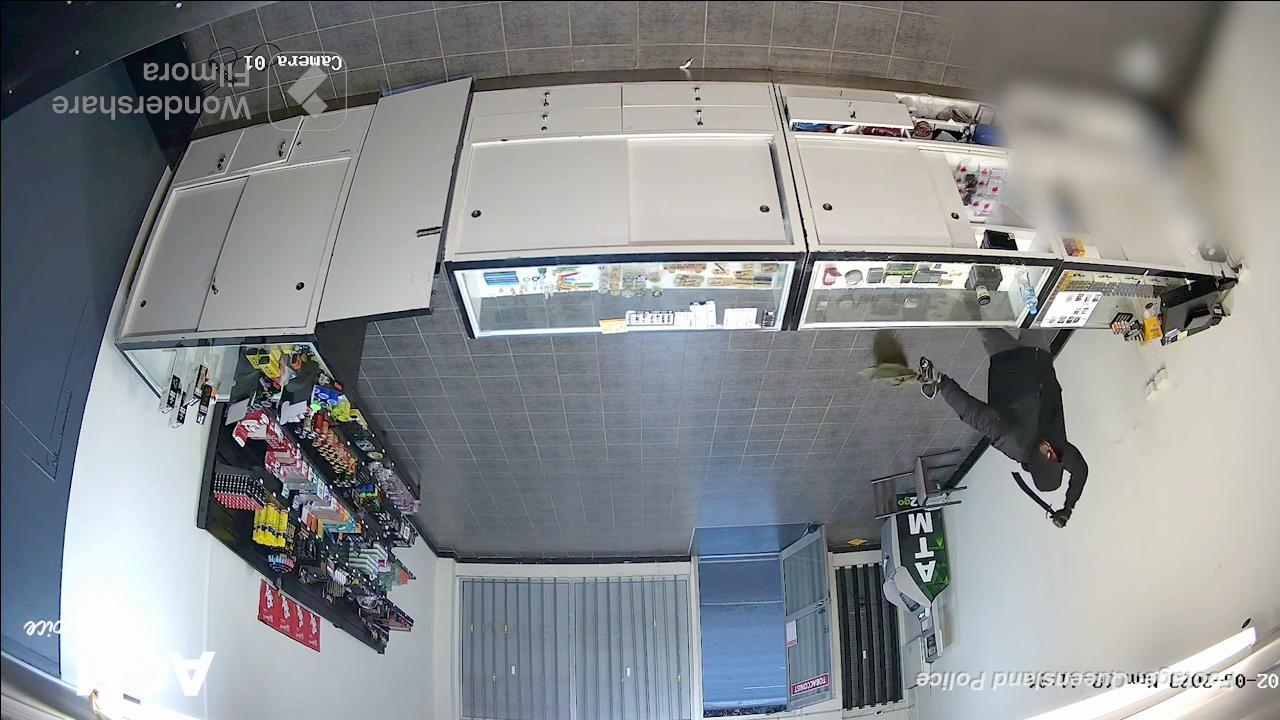melee: (1007, 467, 1061, 525)
